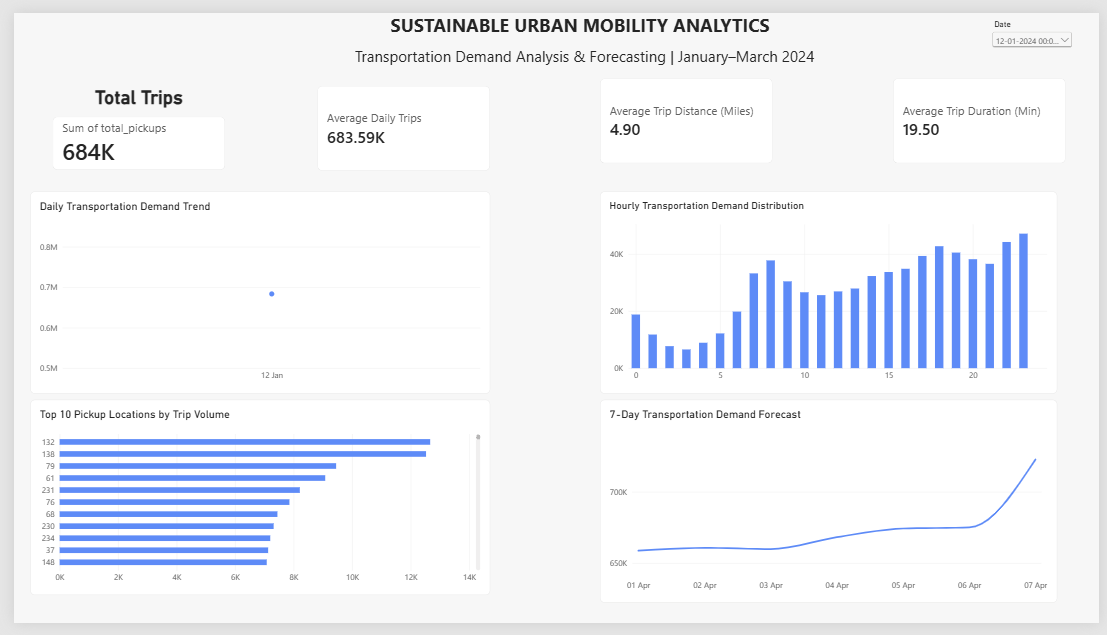

The page's visual inventory and layout, read from the dashboard file:
{"tool":"powerbi","page":{"name":"Page 1","canvas":[1920,1080],"ordinal":0},"visuals":[{"type":"textbox","box":[80.6,0,1840,85.7],"z":0},{"type":"textbox","box":[548.7,56.6,919.1,58.3],"z":1000},{"type":"cardVisual","title":"Total Trips","fields":{"Data":["Sum(daily_summary.total_pickups)"]},"box":[67.2,129.5,305.2,149.2],"z":2000},{"type":"cardVisual","fields":{"Data":["daily_summary.Average Daily Trips"]},"box":[537.7,127.9,305,150],"z":3000},{"type":"cardVisual","fields":{"Data":["daily_summary.Average Trip Distance (Miles)"]},"box":[1036.1,116.4,305,150],"z":4000},{"type":"cardVisual","fields":{"Data":["daily_summary.Average Trip Duration (Min)"]},"box":[1555.7,116.4,305,150],"z":5000},{"type":"lineChart","title":"Daily Transportation Demand Trend","fields":{"Category":["daily_summary.pickup_date.Variation.Date Hierarchy.Year","daily_summary.pickup_date.Variation.Date Hierarchy.Quarter","daily_summary.pickup_date.Variation.Date Hierarchy.Month","daily_summary.pickup_date.Variation.Date Hierarchy.Day"],"Y":["Sum(daily_summary.total_pickups)"]},"box":[28.8,315.3,813.6,357.6],"z":6000},{"type":"clusteredColumnChart","title":"Hourly Transportation Demand Distribution","fields":{"Category":["hourly_summary.pickup_hour"],"Y":["Sum(hourly_summary.total_pickups)"]},"box":[1035.6,315.3,808.5,357.6],"z":7000},{"type":"clusteredBarChart","title":"Top 10 Pickup Locations by Trip Volume","fields":{"Category":["pickup_location_by_date.PULocationID"],"Y":["Sum(pickup_location_by_date.total_pickups)"]},"box":[28.8,684.7,813.6,345.8],"z":8000},{"type":"lineChart","title":"7-Day Transportation Demand Forecast","fields":{"Category":["demand_forecast.forecast_date"],"Y":["Sum(demand_forecast.predicted_pickups)"]},"box":[1035.6,684.7,808.5,359.3],"z":9000},{"type":"slicer","fields":{"Values":["DateTable.Date"]},"box":[1725.4,10.2,150,150],"z":10000}]}

Visuals, with their boxes in screenshot pixels (x1, y1, x2, y2), scaled from the page's 1920x1080 canvas onto the 1107x635 screenshot:
textbox: box=[46, 0, 1106, 50]
textbox: box=[316, 33, 846, 68]
"Total Trips" cardVisual: box=[39, 76, 215, 164]
cardVisual - daily_summary.Average Daily Trips: box=[310, 75, 486, 163]
cardVisual - daily_summary.Average Trip Distance (Miles): box=[597, 68, 773, 157]
cardVisual - daily_summary.Average Trip Duration (Min): box=[897, 68, 1073, 157]
"Daily Transportation Demand Trend" lineChart: box=[17, 185, 486, 396]
"Hourly Transportation Demand Distribution" clusteredColumnChart: box=[597, 185, 1063, 396]
"Top 10 Pickup Locations by Trip Volume" clusteredBarChart: box=[17, 403, 486, 606]
"7-Day Transportation Demand Forecast" lineChart: box=[597, 403, 1063, 614]
slicer - DateTable.Date: box=[995, 6, 1081, 94]
